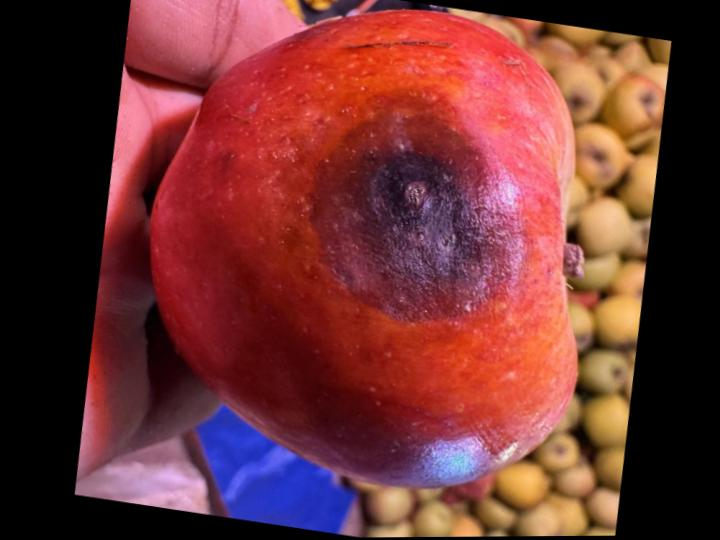apple: (150, 10, 576, 488)
rot_mold_decay: (310, 93, 521, 327)
